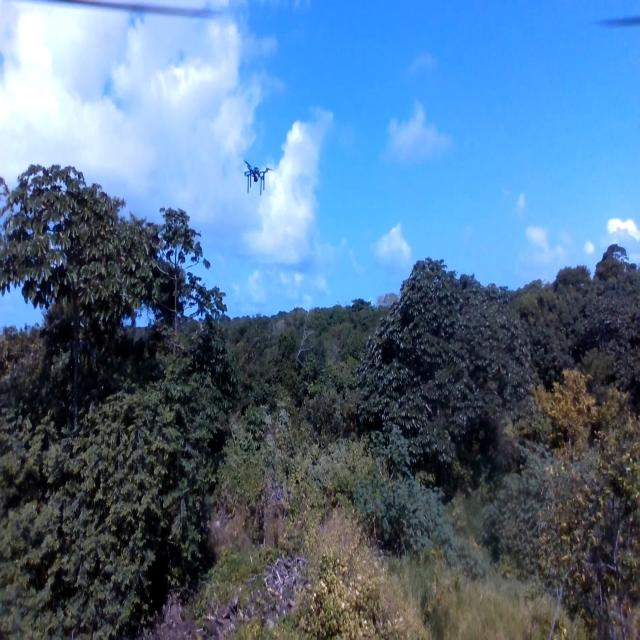-uav-: (238, 151, 272, 199)
